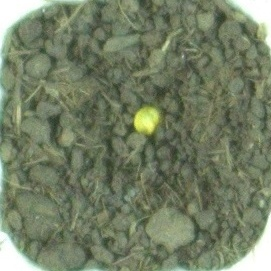chilli seed: (131, 104, 162, 137)
